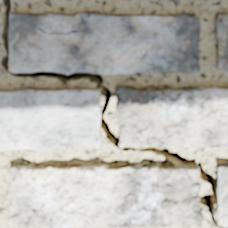brick: (9, 164, 203, 227), (9, 12, 199, 73), (116, 86, 227, 147), (0, 88, 100, 151), (215, 13, 227, 70), (216, 164, 227, 224)
crack: (0, 0, 227, 227)
